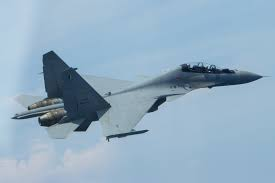maybay_muctieu: (22, 57, 267, 143)
